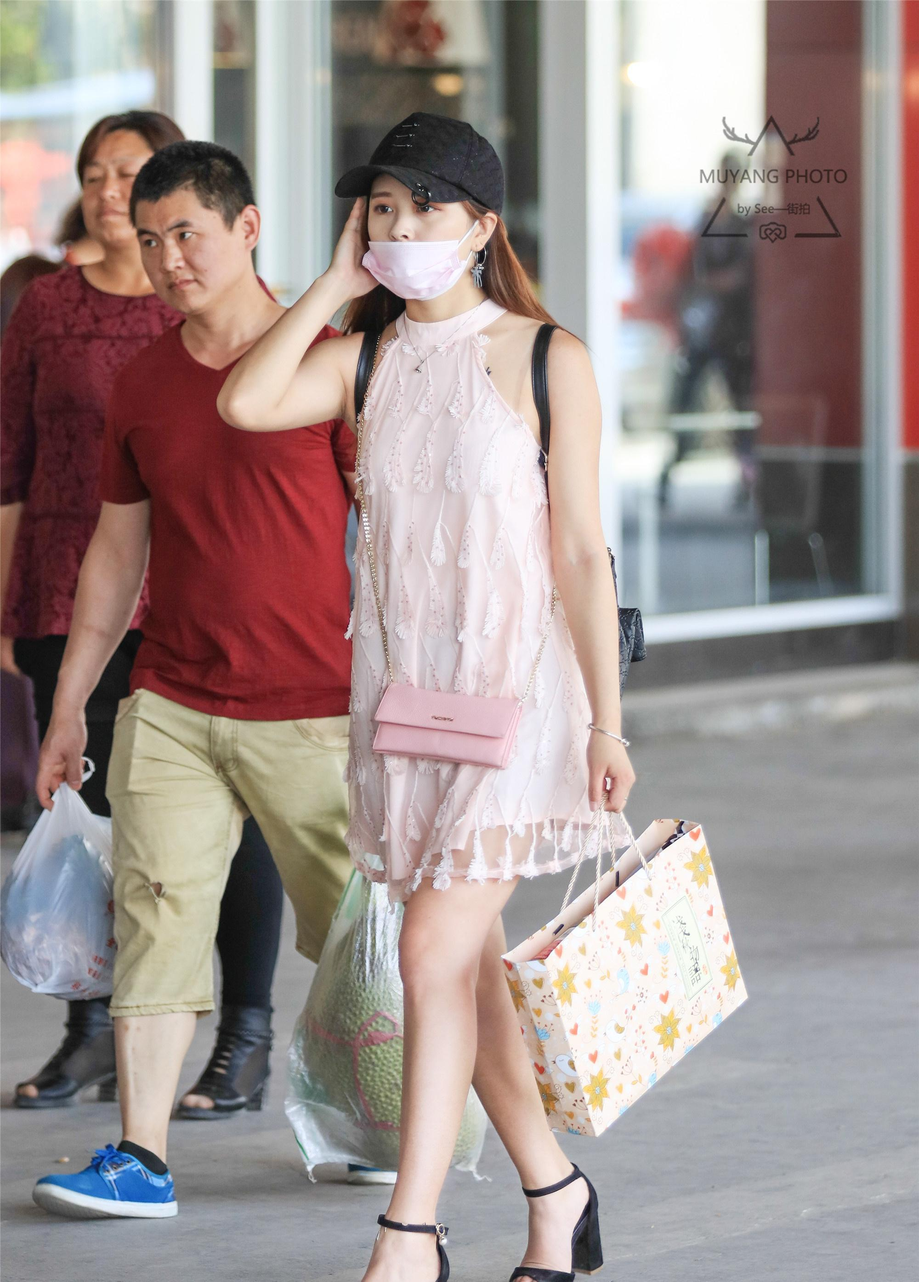NONE: (134, 205, 250, 315), (79, 152, 171, 239)
WRONG: (359, 181, 477, 299)
